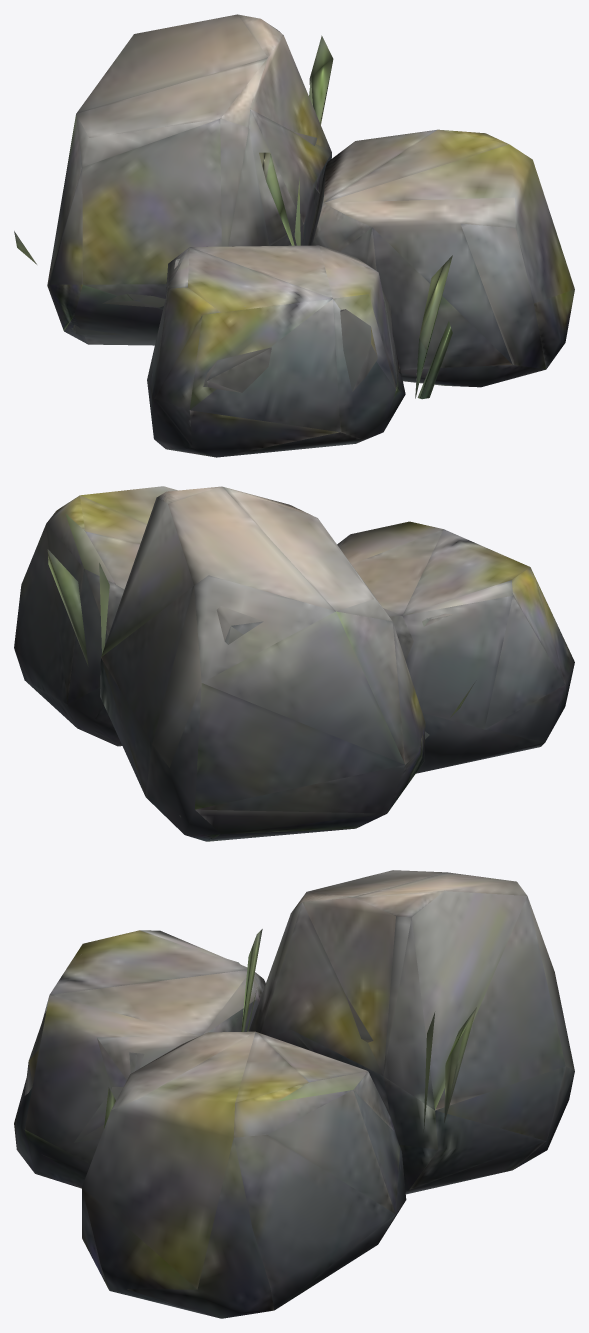
The model's file is o-roche-semis.glb.
3 views of the same model, one above another, from view 1: azimuth 30°, elevation 25°; view 2: azimuth 150°, elevation 25°; view 3: azimuth 270°, elevation 25° (orthographic). The views are drawn at different scales.
Parts seen in each view (by area): view 1: o-roche-semis; view 2: o-roche-semis; view 3: o-roche-semis.
Part boxes in pixels (left/top/right/bottom): o-roche-semis: left=14, top=14, right=574, bottom=457; o-roche-semis: left=14, top=486, right=574, bottom=841; o-roche-semis: left=14, top=870, right=574, bottom=1318.
Size of the model in its own units: 1.99 by 1.15 by 1.8.
1 material, 1 textured.
